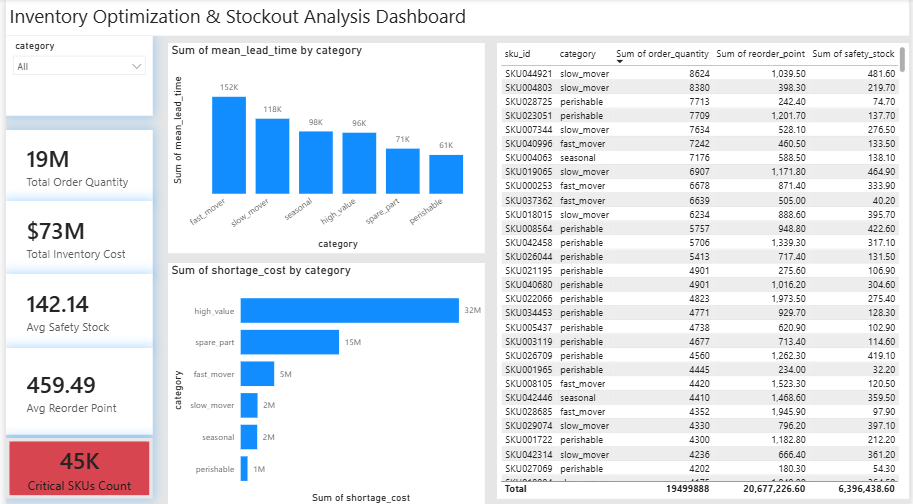

The dashboard page shown, as its layout file describes it:
{"tool":"powerbi","page":{"name":"Inventory_Optimization_Dashboard","canvas":[1280,720],"ordinal":0},"visuals":[{"type":"cardVisual","fields":{"Data":["_Measures.Total Order Quantity"]},"box":[0,185.7,208.3,100.6],"z":0},{"type":"cardVisual","fields":{"Data":["_Measures.Total Inventory Cost"]},"box":[0,286.3,208.3,104.9],"z":1},{"type":"cardVisual","fields":{"Data":["_Measures.Avg Safety Stock"]},"box":[0,389.8,208.3,104.9],"z":2},{"type":"cardVisual","fields":{"Data":["_Measures.Avg Reorder Point"]},"box":[0,494.6,208.3,123.3],"z":3},{"type":"clusteredBarChart","fields":{"Category":["Inventory.category"],"Y":["Sum(Inventory.shortage_cost)"]},"box":[229.6,374.2,449.3,345.8],"z":4},{"type":"clusteredColumnChart","fields":{"Category":["Inventory.category"],"Y":["Sum(Inventory.mean_lead_time)"]},"box":[229.6,62.4,449.3,297.6],"z":5},{"type":"slicer","fields":{"Values":["Inventory.category"]},"box":[0,52.4,208.3,113.4],"z":6},{"type":"tableEx","fields":{"Values":["Inventory.sku_id","Inventory.category","Sum(Inventory.order_quantity)","Sum(Inventory.reorder_point)","Sum(Inventory.safety_stock)"]},"box":[695.9,62.4,583.9,646.3],"z":7},{"type":"cardVisual","title":"Critical SKUs Count","fields":{"Data":["_Measures.Critical SKUs Count"]},"box":[0,622.2,208.3,86.5],"z":8},{"type":"textbox","box":[0,0,1279.8,52.4],"z":9}]}

Visuals, with their boxes in screenshot pixels (x1, y1, x2, y2), scaled from the page's 1280x720 canvas onto the 913x504 screenshot:
cardVisual - _Measures.Total Order Quantity: x1=0 y1=130 x2=149 y2=200
cardVisual - _Measures.Total Inventory Cost: x1=0 y1=200 x2=149 y2=274
cardVisual - _Measures.Avg Safety Stock: x1=0 y1=273 x2=149 y2=346
cardVisual - _Measures.Avg Reorder Point: x1=0 y1=346 x2=149 y2=433
clusteredBarChart - Inventory.category x Sum(Inventory.shortage_cost): x1=164 y1=262 x2=484 y2=503
clusteredColumnChart - Inventory.category x Sum(Inventory.mean_lead_time): x1=164 y1=44 x2=484 y2=252
slicer - Inventory.category: x1=0 y1=37 x2=149 y2=116
tableEx - Inventory.sku_id x Inventory.category: x1=496 y1=44 x2=912 y2=496
"Critical SKUs Count" cardVisual: x1=0 y1=436 x2=149 y2=496
textbox: x1=0 y1=0 x2=912 y2=37
